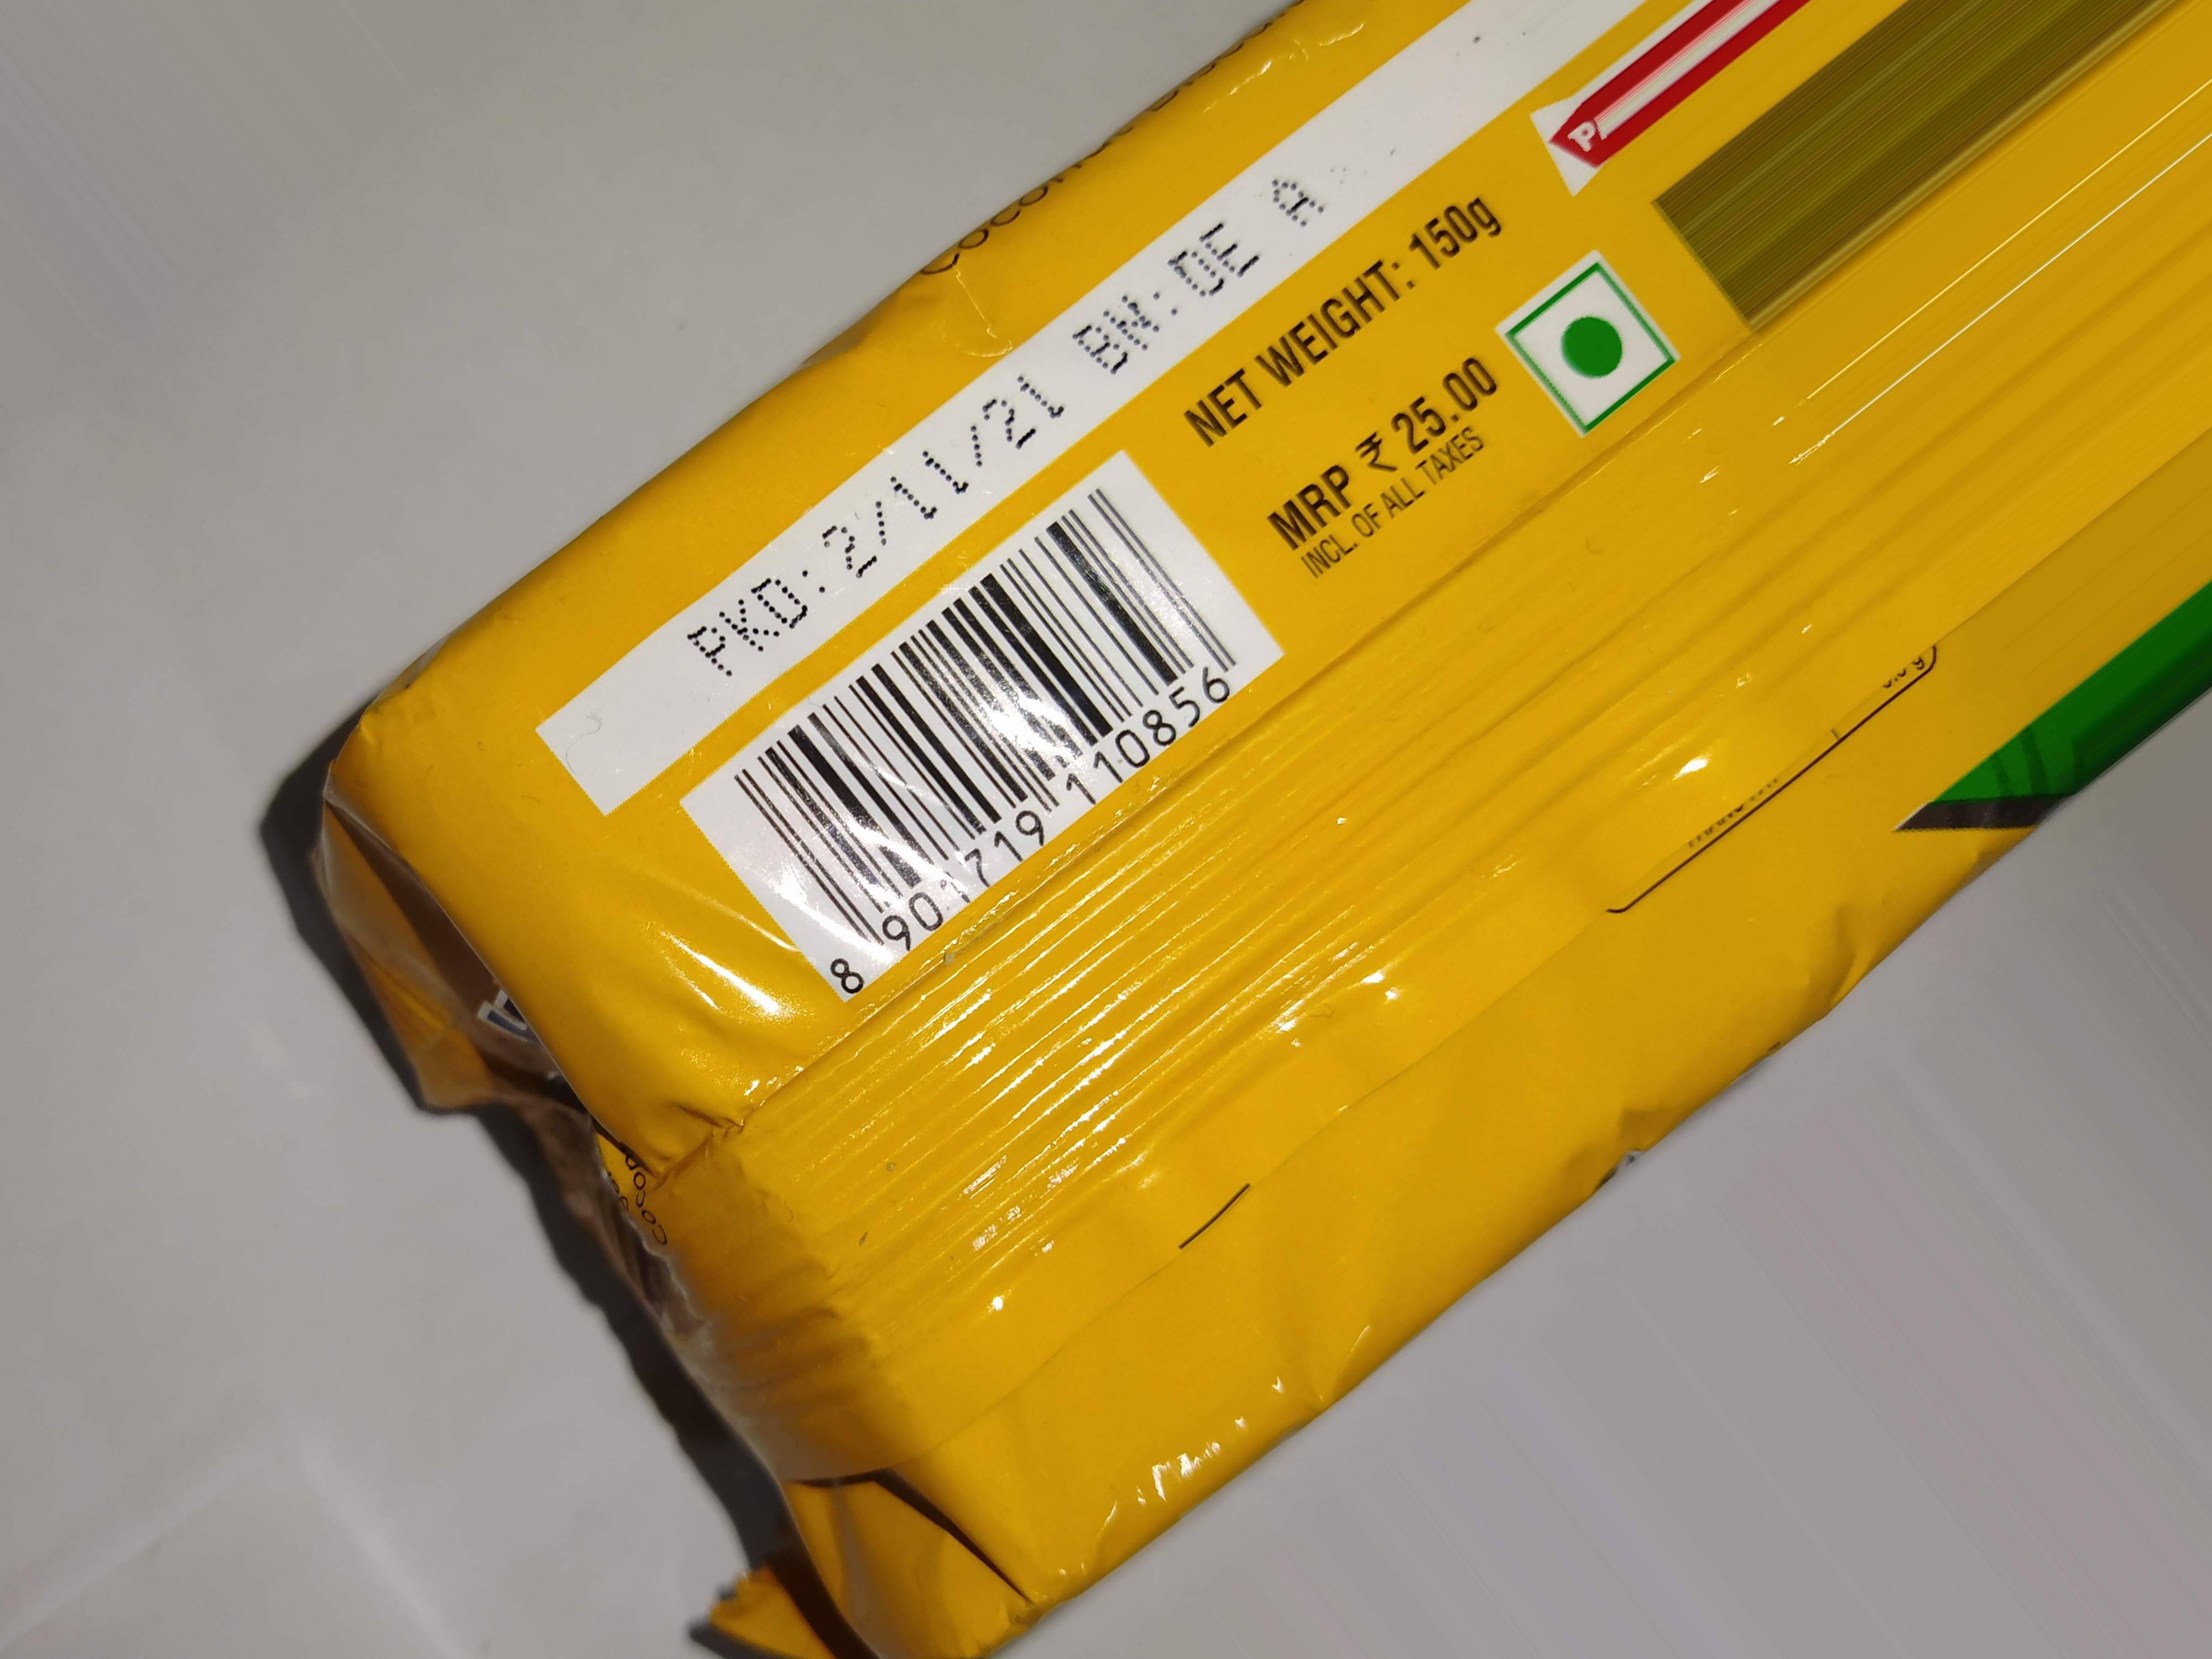Bar_code: (718, 481, 1299, 1032)
Item: (122, 9, 2200, 1659)
